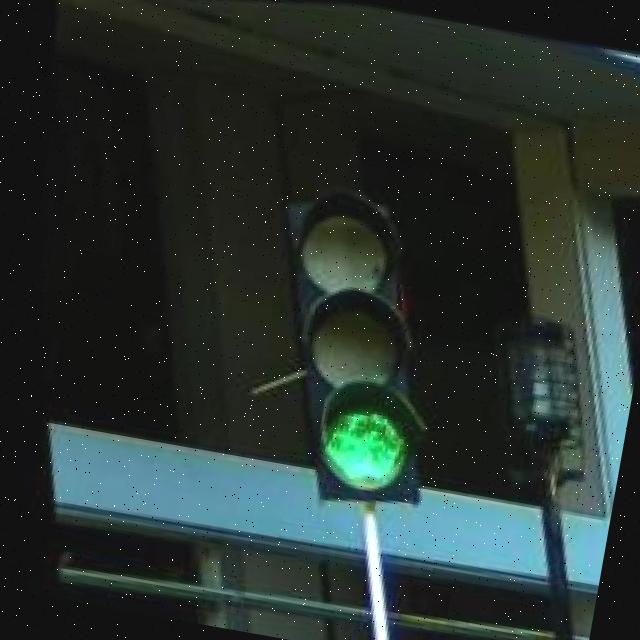green_light: (225, 168, 478, 522)
